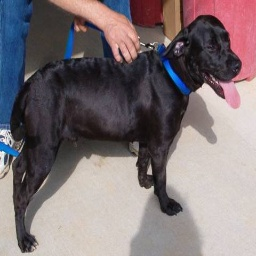dog: (12, 12, 245, 255)
